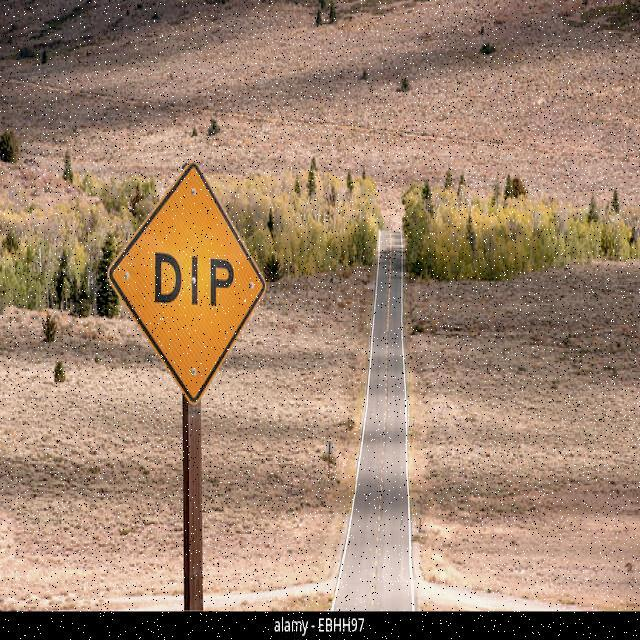Traffic sign: (103, 156, 269, 408)
